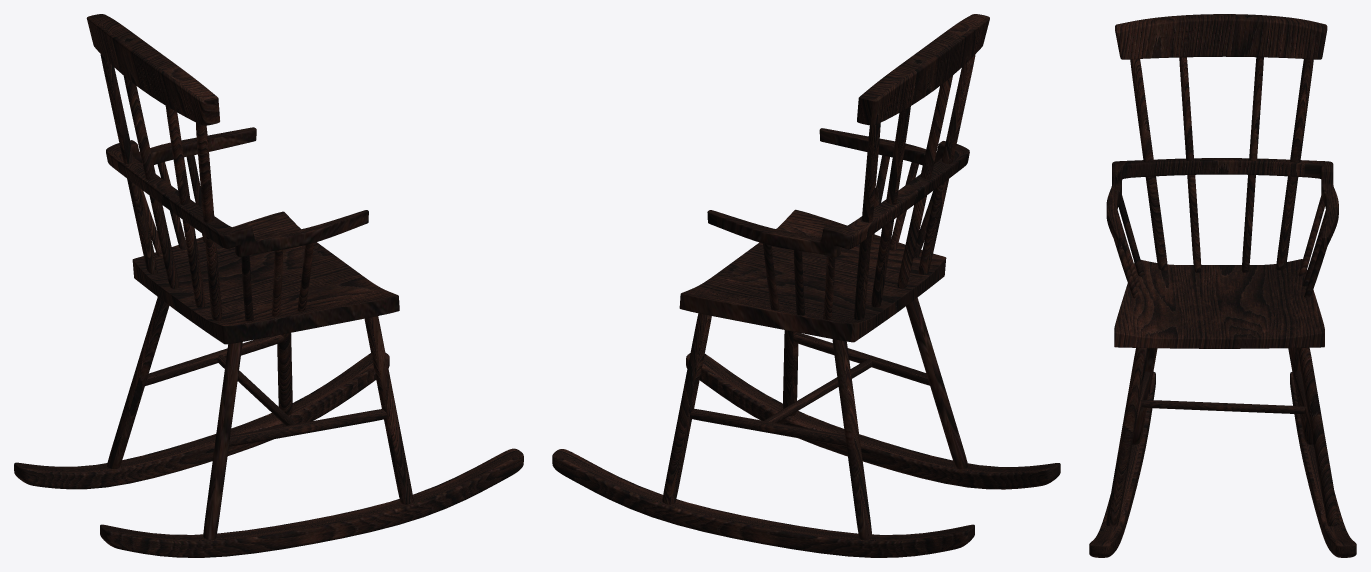
Rendered from chair.glb.
The picture shows the model from 3 angles, left to right: view 1: azimuth 30°, elevation 25°; view 2: azimuth 150°, elevation 25°; view 3: azimuth 270°, elevation 25°; orthographic projection. The views are drawn at different scales.
Visible parts, largest first — view 1: Cube.034; view 2: Cube.034; view 3: Cube.034.
Part boxes in pixels (left/top/right/bottom): Cube.034: left=14, top=14, right=523, bottom=557; Cube.034: left=552, top=14, right=1060, bottom=557; Cube.034: left=1089, top=14, right=1356, bottom=557.
Size of the model in its own units: 2.14 by 2.5 by 1.38.
Materials: 1 (1 with a texture image).
